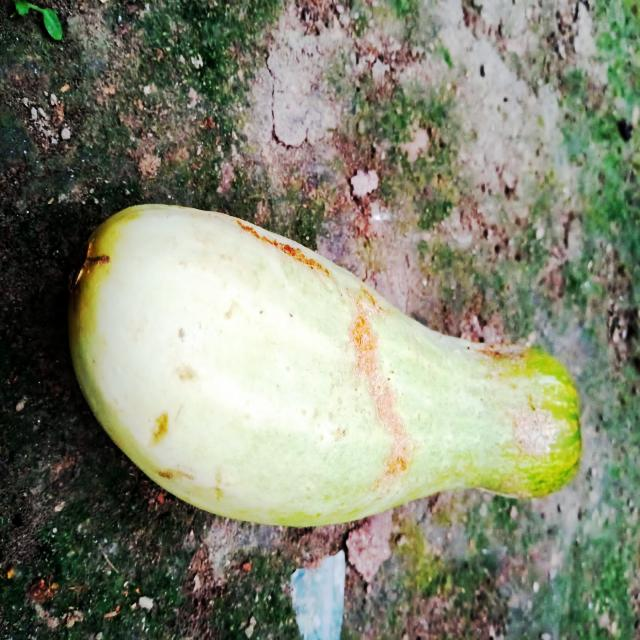Belly-Rot: (340, 277, 417, 493), (472, 337, 562, 465), (144, 355, 210, 487), (233, 210, 336, 282)
